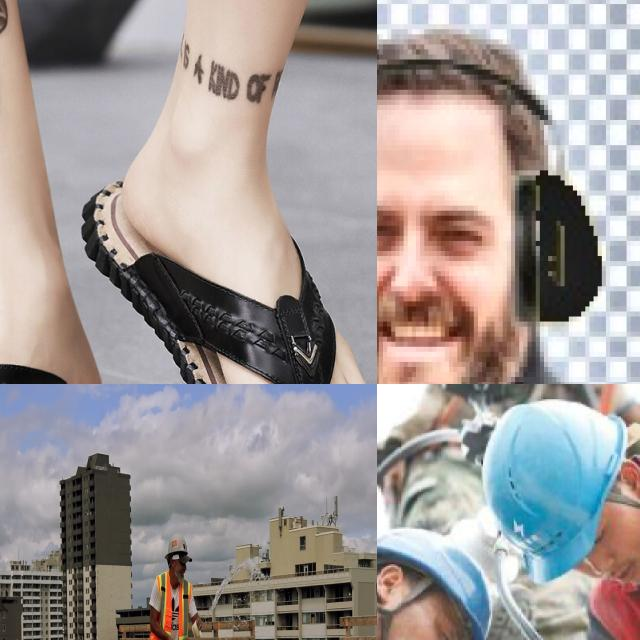Ear-protection: (377, 44, 611, 340)
No_Ear-Protection: (377, 562, 410, 608), (617, 458, 640, 504)
Sandals: (168, 141, 377, 384)
face_nomask: (582, 528, 640, 588)
head_helmet: (484, 400, 626, 581), (377, 529, 491, 640), (165, 536, 191, 562)
person: (136, 532, 200, 640)
vest: (147, 571, 191, 640)
